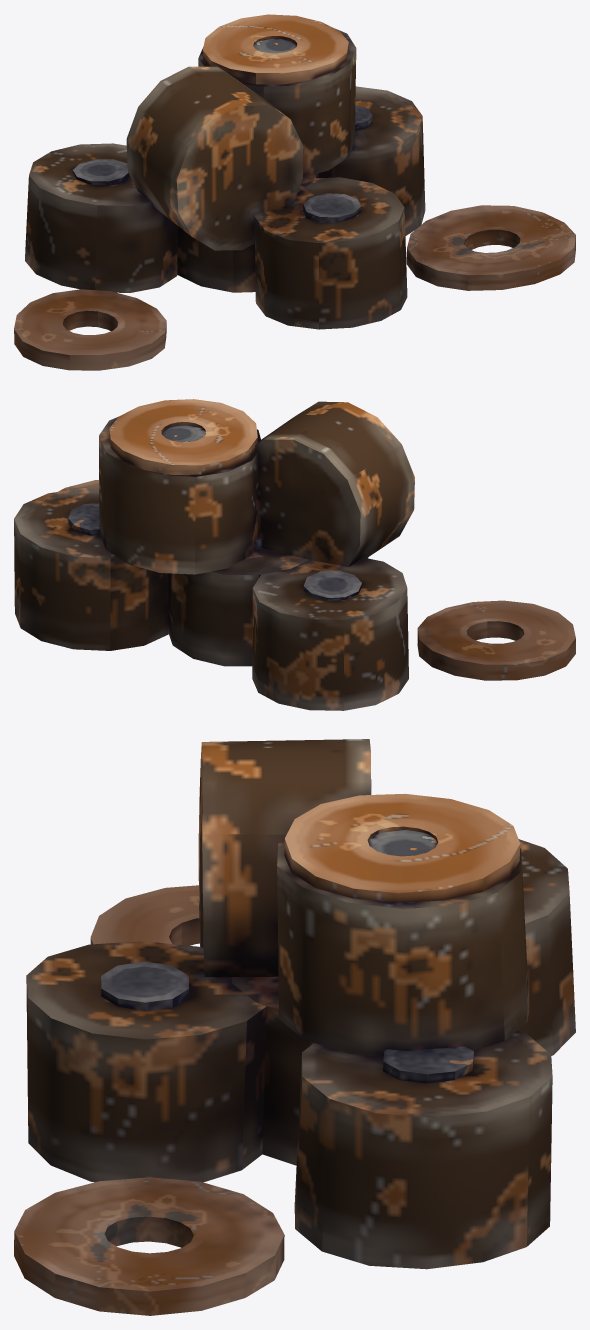
The model's file is RockBoulderPile.glb.
3 views of the same model, one above another, from view 1: azimuth 30°, elevation 25°; view 2: azimuth 150°, elevation 25°; view 3: azimuth 270°, elevation 25° (orthographic). The views are drawn at different scales.
Parts seen in each view (by area): view 1: Drums, Discs, Hubs; view 2: Drums, Discs, Hubs; view 3: Drums, Discs, Hubs.
Part boxes in pixels (x1,y1,x2,y2): Drums: (25,28,425,329); Discs: (14,14,575,370); Hubs: (72,38,372,222); Drums: (14,401,414,710); Discs: (58,399,575,680); Hubs: (68,425,361,600); Drums: (26,739,575,1269); Discs: (14,793,520,1315); Hubs: (101,830,473,1083).
Size of the model in its own units: 4.27 by 1.59 by 2.44.
Materials: 3 (3 with a texture image).
